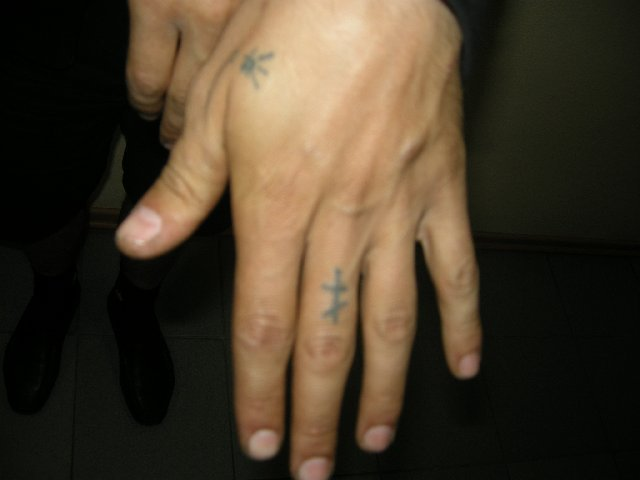tatu9_krest: (320, 265, 342, 330)
